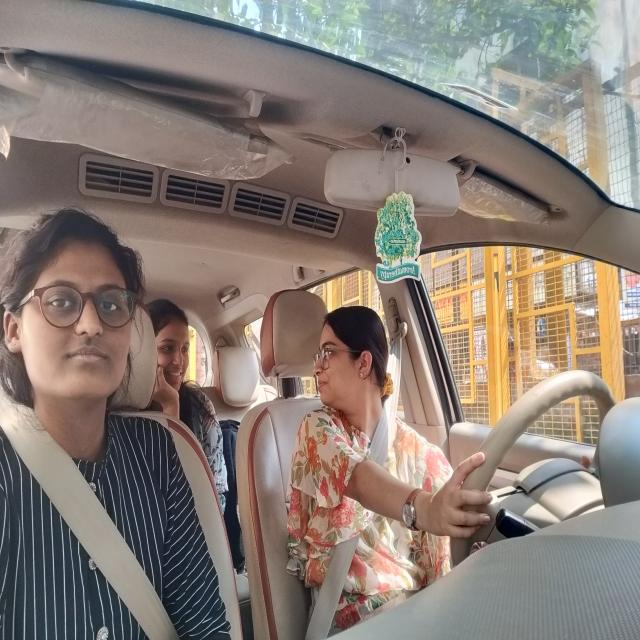LeftRight: (312, 307, 392, 415)
person: (0, 209, 143, 412), (150, 301, 190, 400)
